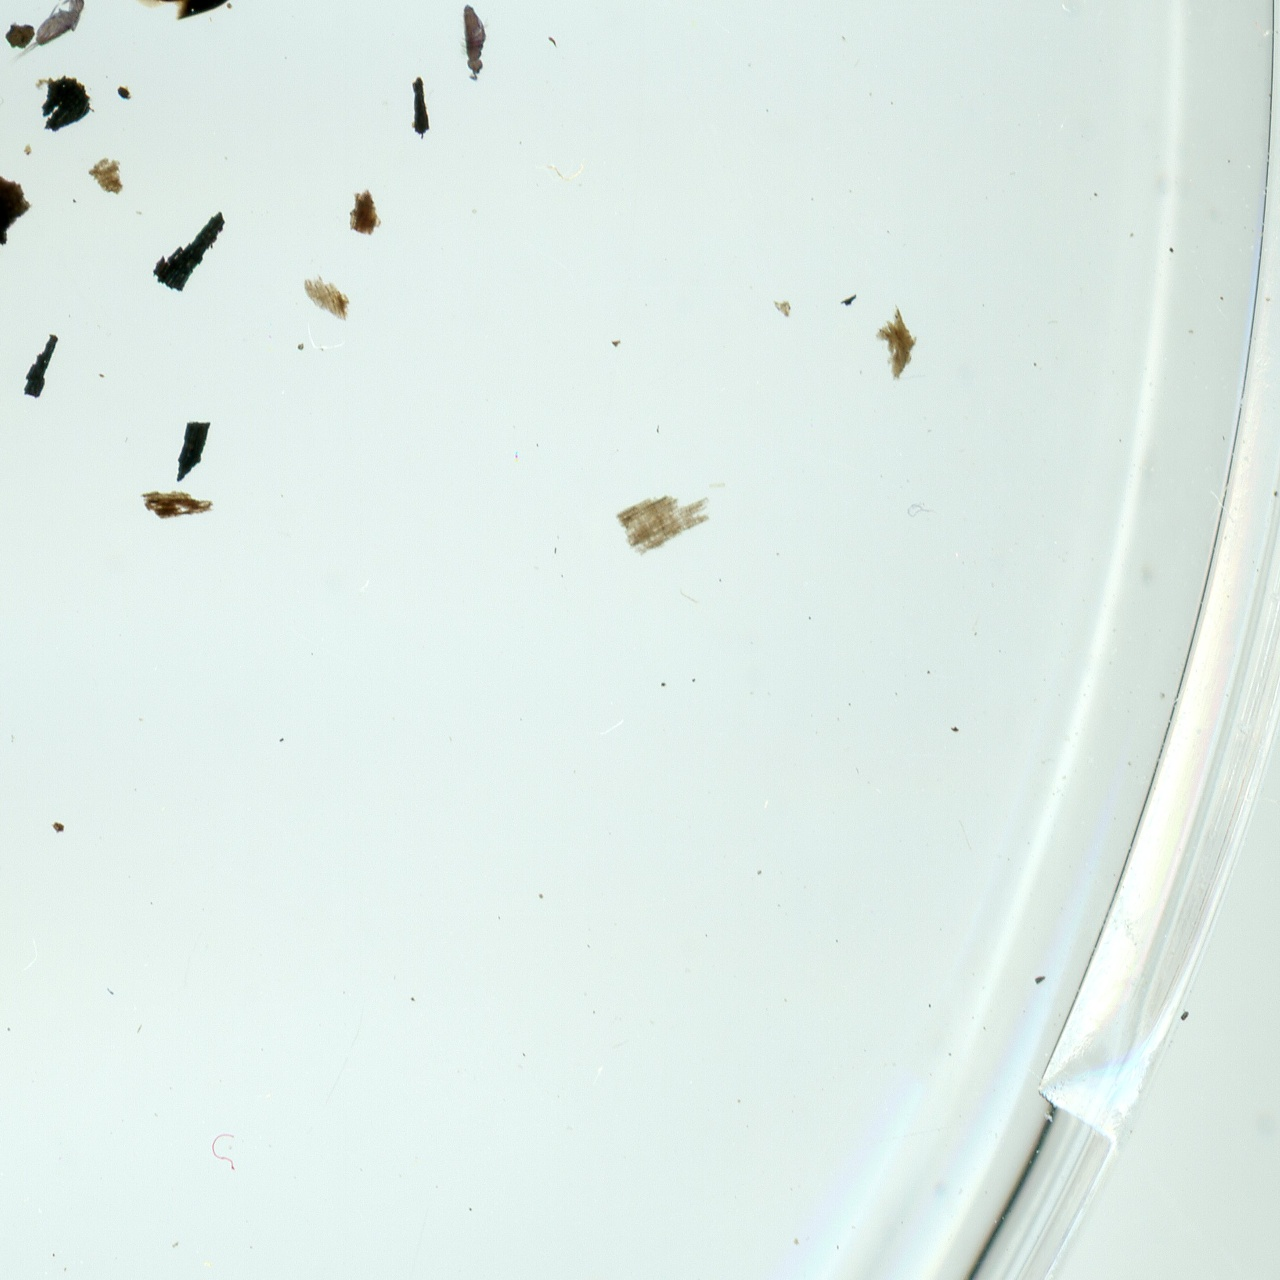arthropod: (2, 0, 105, 88), (458, 0, 495, 86)
